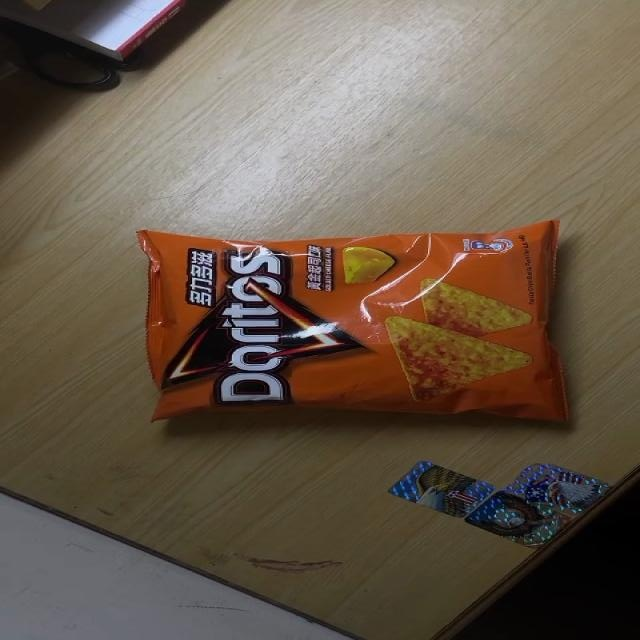Doritos: (135, 218, 570, 425)
